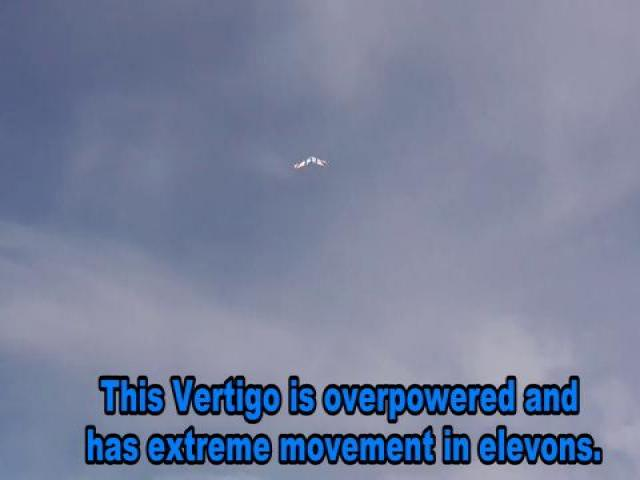flying wing: (290, 150, 331, 174)
